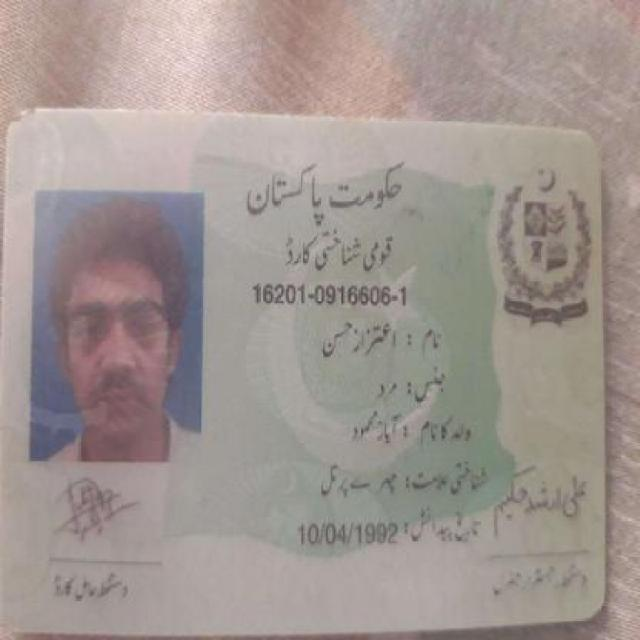Front: (3, 98, 626, 631)
